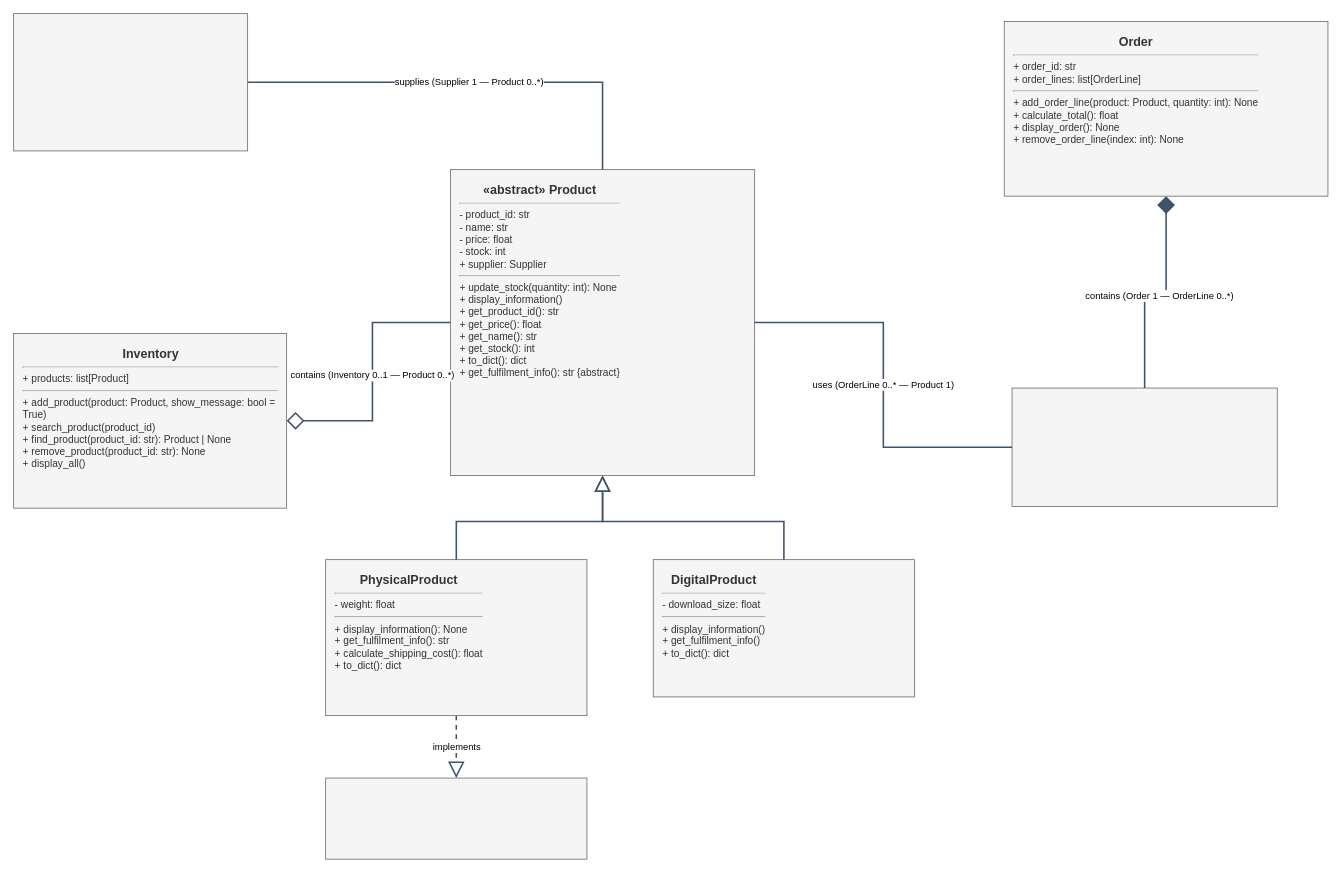
The diagram is 1342 pixels wide and 873 high, and some of its shapes have lost their labels. Each missing label, with the centre of its shape:
OrderLine + product: Product + quantity + calculate_subtotal(): float: (x=1144, y=447)
Supplier + supplier_id + name + contact_email + display_information(): None: (x=130, y=82)
«abstract» CanBeShipped + calculate_shipping_cost(): float {abstract}: (x=456, y=818)
